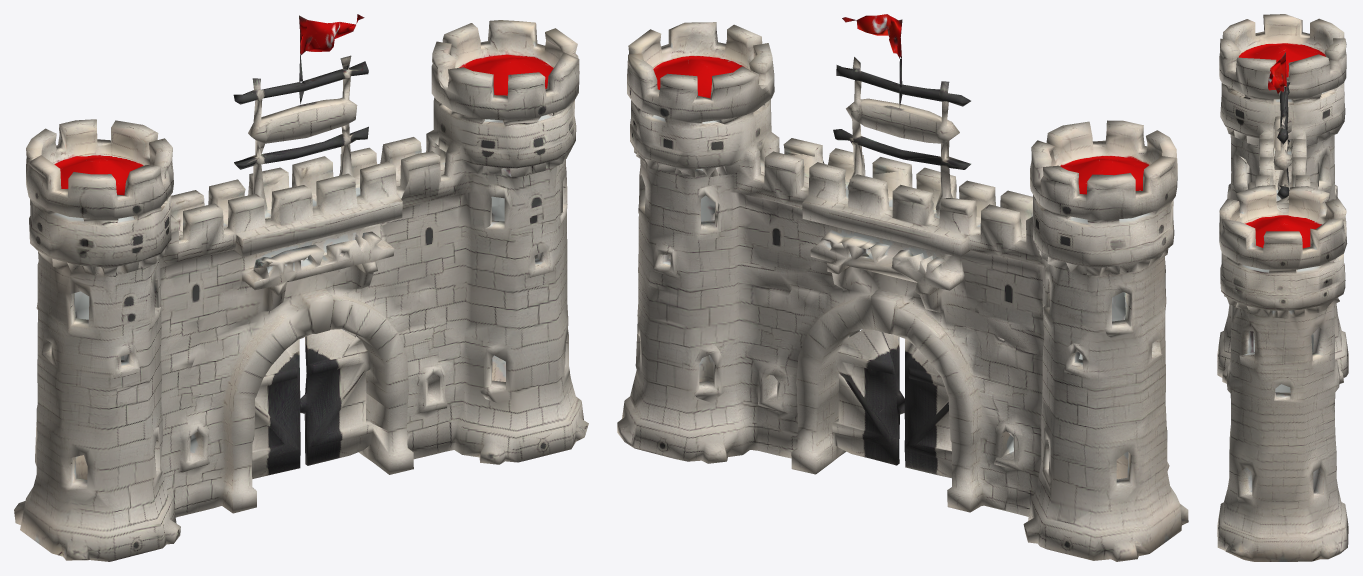
Rendered from wall_gate.glb.
3 views of the same model, side by side, from view 1: azimuth 30°, elevation 25°; view 2: azimuth 150°, elevation 25°; view 3: azimuth 270°, elevation 25° (orthographic). The views are drawn at different scales.
Parts seen in each view (by area): view 1: Mesh_0; view 2: Mesh_0; view 3: Mesh_0.
Part boxes in pixels (bbox=[...]): Mesh_0: bbox=[14, 14, 588, 561]; Mesh_0: bbox=[617, 14, 1188, 561]; Mesh_0: bbox=[1217, 14, 1348, 561].
Size of the model in its own units: 24.08 by 20 by 5.98.
1 material, 1 textured.
